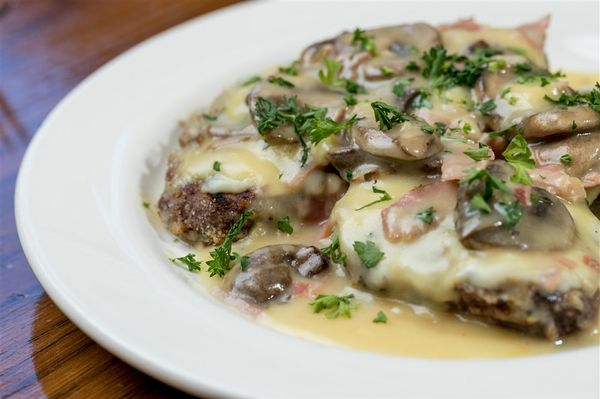curry: (250, 95, 345, 163)
